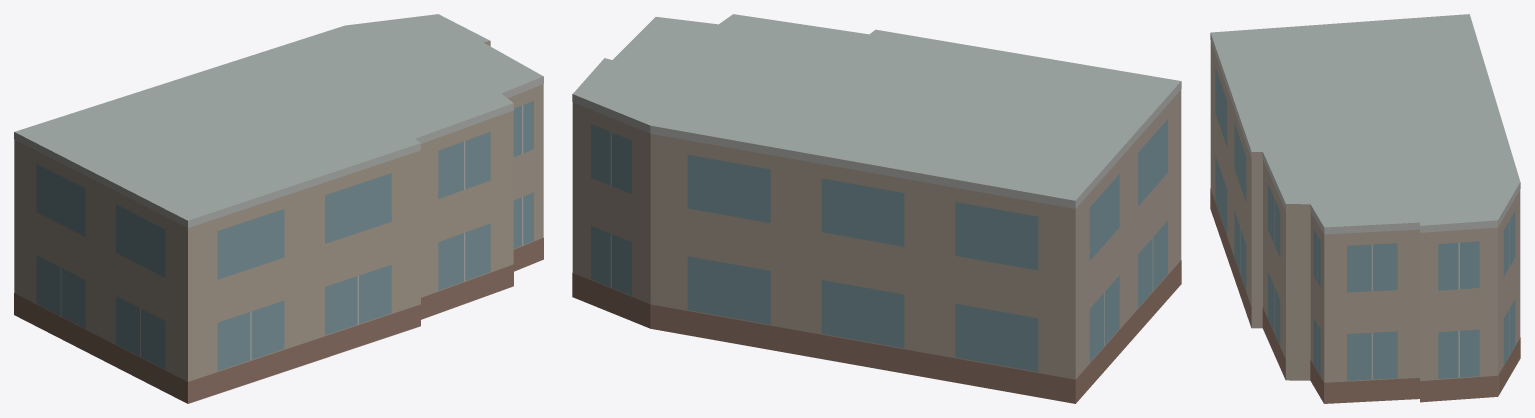
File: survey-upis-32611355.glb
3 views of the same model, side by side, from view 1: azimuth 30°, elevation 25°; view 2: azimuth 150°, elevation 25°; view 3: azimuth 270°, elevation 25° (orthographic). The views are drawn at different scales.
Parts seen in each view (by area): view 1: survey-upis-32611355.tmp; view 2: survey-upis-32611355.tmp; view 3: survey-upis-32611355.tmp.
Part boxes in pixels (left/top/right/bottom): survey-upis-32611355.tmp: left=14, top=14, right=543, bottom=403; survey-upis-32611355.tmp: left=572, top=14, right=1181, bottom=403; survey-upis-32611355.tmp: left=1210, top=14, right=1520, bottom=403.
Size of the model in its own units: 15.84 by 6.1 by 9.73.
